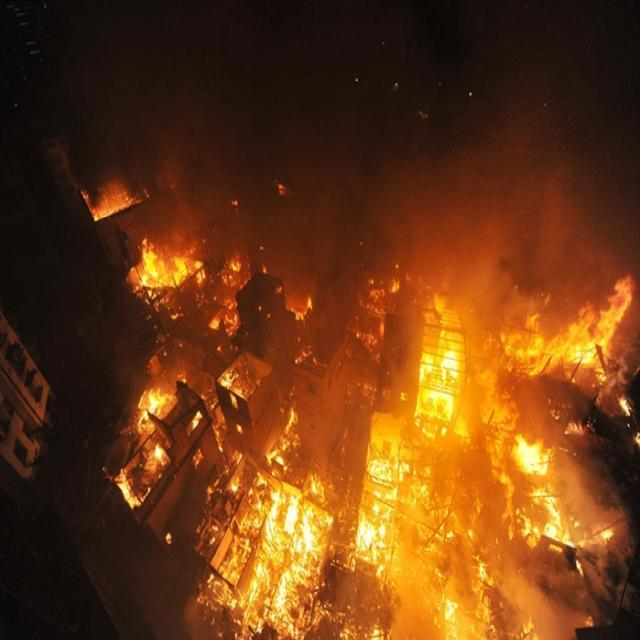Fire: (115, 235, 639, 640)
